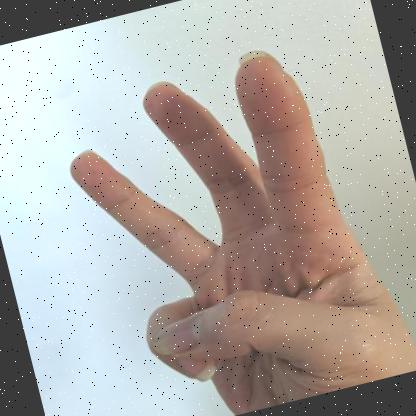W: (70, 50, 416, 415)
